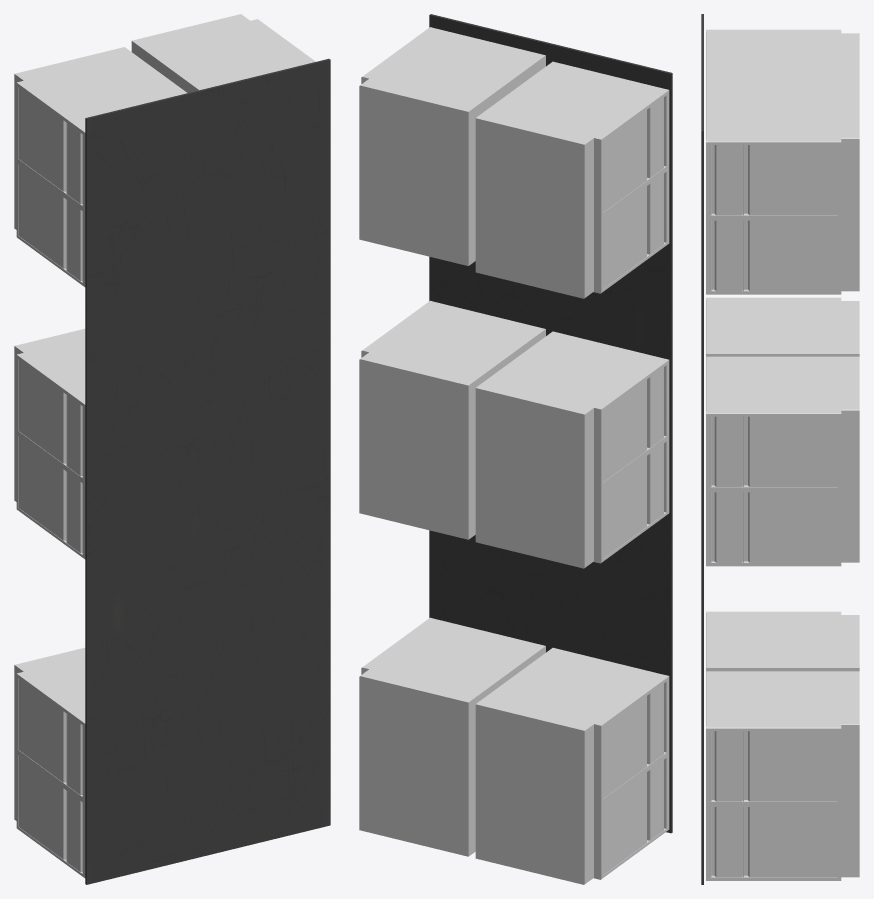
The model's file is lab_table.glb.
3 views of the same model, side by side, from view 1: azimuth 30°, elevation 25°; view 2: azimuth 150°, elevation 25°; view 3: azimuth 270°, elevation 25° (orthographic).
Parts seen in each view (by area): view 1: surface, group_03, group_01, group_04.001, group_11, group, group_05, group_02; view 2: surface, group_04.001, group_03, group_01, group_11, group_09, group_06, group_02, group, group_05, group_07, group_10 (+1 smaller); view 3: group_09, group_06, group_11, group_08, group_07, group_10, group_04.001, group_01, group_03, surface.
Boxes of the visible parts, <box> form: surface: <box>85,58,330,884</box>; group_03: <box>14,47,187,209</box>; group_01: <box>14,328,85,481</box>; group_04.001: <box>14,647,85,800</box>; group_11: <box>131,14,315,92</box>; group: <box>14,423,85,559</box>; group_05: <box>14,742,85,878</box>; group_02: <box>14,151,85,287</box>; surface: <box>429,14,672,833</box>; group_04.001: <box>475,647,669,807</box>; group_03: <box>475,61,669,221</box>; group_01: <box>475,331,669,491</box>; group_11: <box>359,27,545,188</box>; group_09: <box>359,300,545,463</box>; group_06: <box>359,617,545,778</box>; group_02: <box>475,166,669,298</box>; group: <box>475,436,669,568</box>; group_05: <box>475,753,669,884</box>; group_07: <box>359,752,475,856</box>; group_10: <box>359,162,475,265</box>; group_09: <box>706,356,859,490</box>; group_06: <box>706,671,859,805</box>; group_11: <box>706,85,859,218</box>; group_08: <box>706,486,859,566</box>; group_07: <box>706,801,859,880</box>; group_10: <box>706,215,859,294</box>; group_04.001: <box>706,611,859,690</box>; group_01: <box>706,297,859,374</box>; group_03: <box>706,29,859,108</box>; surface: <box>701,14,703,884</box>.
Bounding box in the file's own units: 1.5 × 4.5 × 0.8569.
2 materials, 1 textured.
